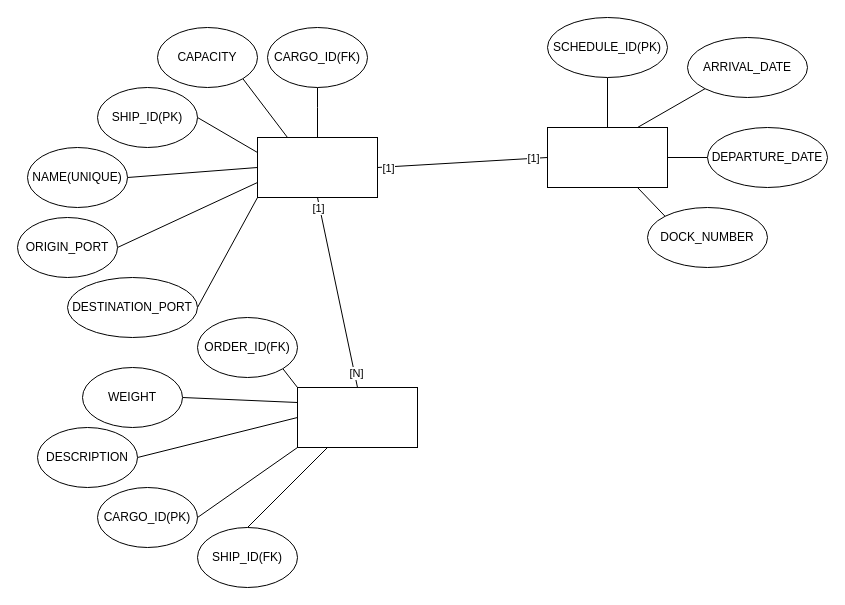
The diagram is 845 pixels wide and 605 high, and some of its shapes have lost their labels. Here are the shapes that lost their labels. From the top down, the box of each, then its label:
(256, 136, 378, 198): SHIP
(546, 126, 668, 188): SCHEDULE
(296, 386, 418, 448): CARGO
